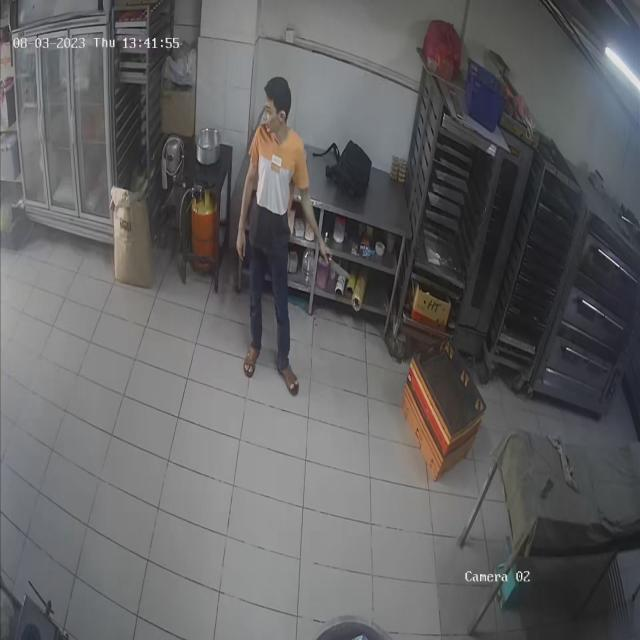Knife: (321, 247, 357, 289)
